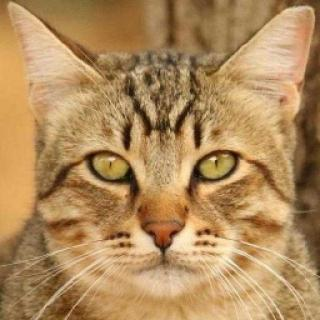cat: (13, 3, 307, 299)
nose: (135, 196, 194, 252)
